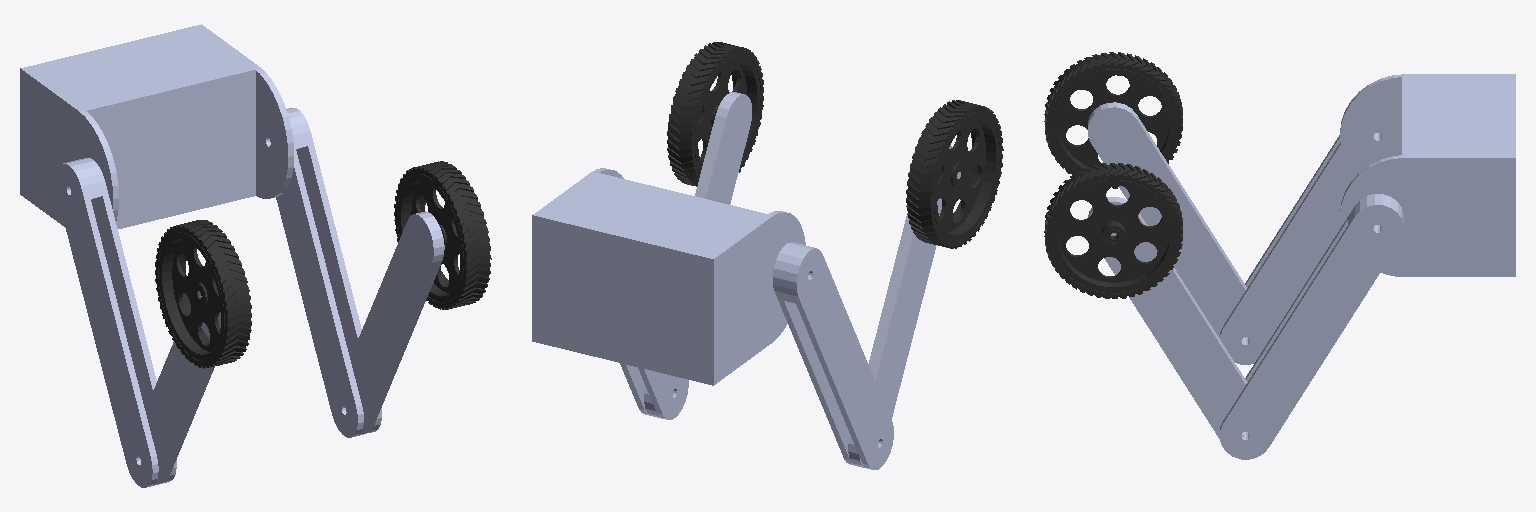
URDF robot description (JJ1_2):
<?xml version="1.0" encoding="utf-8"?>
<!-- This URDF was automatically created by SolidWorks to URDF Exporter! Originally created by Stephen Brawner (brawner@gmail.com) 
     Commit Version: 1.6.0-4-g7f85cfe  Build Version: 1.6.7995.38578
     For more information, please see http://wiki.ros.org/sw_urdf_exporter -->
<robot
  name="JJ1_2">
  <link
    name="base_link">
    <inertial>
      <origin
        xyz="-3.46944695195361E-17 0.0541343106662228 -0.0500000000000001"
        rpy="0 0 0" />
      <mass
        value="0.317885063070022" />
      <inertia
        ixx="0.000805530112810557"
        ixy="1.3041432030326E-18"
        ixz="-1.6823593501364E-19"
        iyy="0.00137768813732968"
        iyz="-6.58270704345859E-20"
        izz="0.00134993322209962" />
    </inertial>
    <visual>
      <origin
        xyz="0 0 0"
        rpy="0 0 0" />
      <geometry>
        <mesh
          filename="package://JJ1_2/meshes/base_link.STL" />
      </geometry>
      <material
        name="">
        <color
          rgba="0.792156862745098 0.819607843137255 0.933333333333333 1" />
      </material>
    </visual>
    <collision>
      <origin
        xyz="0 0 0"
        rpy="0 0 0" />
      <geometry>
        <mesh
          filename="package://JJ1_2/meshes/base_link.STL" />
      </geometry>
    </collision>
  </link>
  <link
    name="left_leg">
    <inertial>
      <origin
        xyz="-0.00999999999999997 -0.0449694323881673 -0.077889341683839"
        rpy="0 0 0" />
      <mass
        value="0.101695020621345" />
      <inertia
        ixx="0.000516418820763554"
        ixy="8.82811163187619E-20"
        ixz="1.58978901600665E-19"
        iyy="0.000386210698184656"
        iyz="-0.000212287066998379"
        izz="0.000141082707630677" />
    </inertial>
    <visual>
      <origin
        xyz="0 0 0"
        rpy="0 0 0" />
      <geometry>
        <mesh
          filename="package://JJ1_2/meshes/left_leg.STL" />
      </geometry>
      <material
        name="">
        <color
          rgba="0.792156862745098 0.819607843137255 0.933333333333333 1" />
      </material>
    </visual>
    <collision>
      <origin
        xyz="0 0 0"
        rpy="0 0 0" />
      <geometry>
        <mesh
          filename="package://JJ1_2/meshes/left_leg.STL" />
      </geometry>
    </collision>
  </link>
  <joint
    name="left_hip_joint"
    type="revolute">
    <origin
      xyz="0.095 0 -0.05"
      rpy="0 0 0" />
    <parent
      link="base_link" />
    <child
      link="left_leg" />
    <axis
      xyz="1 0 0" />
    <limit
      lower="-1.57"
      upper="1.57"
      effort="25"
      velocity="5" />
  </joint>
  <link
    name="left_lower_leg">
    <inertial>
      <origin
        xyz="-0.0104518404280339 -0.0504218920181224 0.0873332787891406"
        rpy="0 0 0" />
      <mass
        value="0.0833200536847903" />
      <inertia
        ixx="0.000384202540438722"
        ixy="1.98939997649913E-07"
        ixz="-3.44574183587276E-07"
        iyy="0.000283396943067376"
        iyz="0.000157071553743909"
        izz="0.000102026335395215" />
    </inertial>
    <visual>
      <origin
        xyz="0 0 0"
        rpy="0 0 0" />
      <geometry>
        <mesh
          filename="package://JJ1_2/meshes/left_lower_leg.STL" />
      </geometry>
      <material
        name="">
        <color
          rgba="0.792156862745098 0.819607843137255 0.933333333333333 1" />
      </material>
    </visual>
    <collision>
      <origin
        xyz="0 0 0"
        rpy="0 0 0" />
      <geometry>
        <mesh
          filename="package://JJ1_2/meshes/left_lower_leg.STL" />
      </geometry>
    </collision>
  </link>
  <joint
    name="lwft_lower_joint"
    type="revolute">
    <origin
      xyz="0 -0.1 -0.17321"
      rpy="0 0 0" />
    <parent
      link="left_leg" />
    <child
      link="left_lower_leg" />
    <axis
      xyz="1 0 0" />
    <limit
      lower="-1.57"
      upper="1.57"
      effort="25"
      velocity="5" />
  </joint>
  <link
    name="left_wheel">
    <inertial>
      <origin
        xyz="-0.00986648847589566 3.04027841663279E-06 -2.21045401397127E-06"
        rpy="0 0 0" />
      <mass
        value="0.0694113133479026" />
      <inertia
        ixx="0.000134229436938703"
        ixy="-1.56927808445733E-09"
        ixz="1.1407701402417E-09"
        iyy="6.90007512954513E-05"
        iyz="-8.47025339346594E-10"
        izz="6.90002022598184E-05" />
    </inertial>
    <visual>
      <origin
        xyz="0 0 0"
        rpy="0 0 0" />
      <geometry>
        <mesh
          filename="package://JJ1_2/meshes/left_wheel.STL" />
      </geometry>
      <material
        name="">
        <color
          rgba="0.250980392156863 0.250980392156863 0.250980392156863 1" />
      </material>
    </visual>
    <collision>
      <origin
        xyz="0 0 0"
        rpy="0 0 0" />
      <geometry>
        <mesh
          filename="package://JJ1_2/meshes/left_wheel.STL" />
      </geometry>
    </collision>
  </link>
  <joint
    name="left_wheel_joint"
    type="continuous">
    <origin
      xyz="0.014 -0.1 0.17321"
      rpy="0 0 0" />
    <parent
      link="left_lower_leg" />
    <child
      link="left_wheel" />
    <axis
      xyz="1 0 0" />
    <limit
      lower="-1.57"
      upper="1.57"
      effort="8"
      velocity="25" />
  </joint>
  <link
    name="right_leg">
    <inertial>
      <origin
        xyz="0.01 -0.0449694323881673 -0.0778893416838389"
        rpy="0 0 0" />
      <mass
        value="0.101695020621345" />
      <inertia
        ixx="0.000516418820763554"
        ixy="9.58709233175815E-21"
        ixz="9.08309461311207E-21"
        iyy="0.000386210698184656"
        iyz="-0.000212287066998379"
        izz="0.000141082707630677" />
    </inertial>
    <visual>
      <origin
        xyz="0 0 0"
        rpy="0 0 0" />
      <geometry>
        <mesh
          filename="package://JJ1_2/meshes/right_leg.STL" />
      </geometry>
      <material
        name="">
        <color
          rgba="0.792156862745098 0.819607843137255 0.933333333333333 1" />
      </material>
    </visual>
    <collision>
      <origin
        xyz="0 0 0"
        rpy="0 0 0" />
      <geometry>
        <mesh
          filename="package://JJ1_2/meshes/right_leg.STL" />
      </geometry>
    </collision>
  </link>
  <joint
    name="right_hip_joint"
    type="revolute">
    <origin
      xyz="-0.095 0 -0.05"
      rpy="0 0 0" />
    <parent
      link="base_link" />
    <child
      link="right_leg" />
    <axis
      xyz="1 0 0" />
    <limit
      lower="-1.57"
      upper="1.57"
      effort="25"
      velocity="5" />
  </joint>
  <link
    name="right_lower_leg">
    <inertial>
      <origin
        xyz="0.0104518404280338 -0.0504218920181224 0.0873332787891406"
        rpy="0 0 0" />
      <mass
        value="0.0833200536847904" />
      <inertia
        ixx="0.000384202540438722"
        ixy="-1.98939997650006E-07"
        ixz="3.44574183587448E-07"
        iyy="0.000283396943067377"
        iyz="0.000157071553743909"
        izz="0.000102026335395215" />
    </inertial>
    <visual>
      <origin
        xyz="0 0 0"
        rpy="0 0 0" />
      <geometry>
        <mesh
          filename="package://JJ1_2/meshes/right_lower_leg.STL" />
      </geometry>
      <material
        name="">
        <color
          rgba="0.792156862745098 0.819607843137255 0.933333333333333 1" />
      </material>
    </visual>
    <collision>
      <origin
        xyz="0 0 0"
        rpy="0 0 0" />
      <geometry>
        <mesh
          filename="package://JJ1_2/meshes/right_lower_leg.STL" />
      </geometry>
    </collision>
  </link>
  <joint
    name="right_lower_joint"
    type="revolute">
    <origin
      xyz="0 -0.1 -0.17321"
      rpy="0 0 0" />
    <parent
      link="right_leg" />
    <child
      link="right_lower_leg" />
    <axis
      xyz="-1 0 0" />
    <limit
      lower="-1.57"
      upper="1.57"
      effort="25"
      velocity="5" />
  </joint>
  <link
    name="right_wheel">
    <inertial>
      <origin
        xyz="0.00363351152410418 3.04027841654952E-06 -2.21045401420719E-06"
        rpy="0 0 0" />
      <mass
        value="0.0694113133479006" />
      <inertia
        ixx="0.000134229436938703"
        ixy="-1.56927808436388E-09"
        ixz="1.14077014027389E-09"
        iyy="6.90007512954512E-05"
        iyz="-8.47025339568194E-10"
        izz="6.90002022598183E-05" />
    </inertial>
    <visual>
      <origin
        xyz="0 0 0"
        rpy="0 0 0" />
      <geometry>
        <mesh
          filename="package://JJ1_2/meshes/right_wheel.STL" />
      </geometry>
      <material
        name="">
        <color
          rgba="0.250980392156863 0.250980392156863 0.250980392156863 1" />
      </material>
    </visual>
    <collision>
      <origin
        xyz="0 0 0"
        rpy="0 0 0" />
      <geometry>
        <mesh
          filename="package://JJ1_2/meshes/right_wheel.STL" />
      </geometry>
    </collision>
  </link>
  <joint
    name="right_wheel_joint"
    type="continuous">
    <origin
      xyz="-0.0075 -0.1 0.17321"
      rpy="0 0 0" />
    <parent
      link="right_lower_leg" />
    <child
      link="right_wheel" />
    <axis
      xyz="1 0 0" />
    <limit
      effort="8"
      velocity="25" />
  </joint>
</robot>

--- Render facts (derived) ---
3 views of the same robot in one strip: view 1: azimuth 30°, elevation 25°; view 2: azimuth 150°, elevation 25°; view 3: azimuth 270°, elevation 25° (orthographic).
Robot: JJ1_2 — 7 links, 6 joints (4 revolute, 2 continuous); root link base_link; default pose: every joint at zero.
Links seen in each view (by area): view 1: base_link, right_leg, left_leg, right_wheel, left_lower_leg, left_wheel, right_lower_leg; view 2: base_link, right_leg, right_wheel, left_wheel, right_lower_leg, left_lower_leg, left_leg; view 3: base_link, left_leg, left_wheel, right_leg, right_lower_leg, left_lower_leg, right_wheel.
Link boxes in pixels (box(x1,y1,x2,y2)): base_link: box(20, 24, 293, 228); right_leg: box(55, 158, 176, 487); left_leg: box(276, 108, 381, 437); right_wheel: box(155, 220, 251, 368); left_lower_leg: box(350, 211, 444, 435); left_wheel: box(394, 161, 491, 309); right_lower_leg: box(145, 291, 220, 485); base_link: box(532, 168, 805, 385); right_leg: box(773, 242, 893, 469); right_wheel: box(906, 100, 1003, 248); left_wheel: box(667, 42, 763, 186); right_lower_leg: box(848, 145, 960, 467); left_lower_leg: box(644, 92, 751, 418); left_leg: box(620, 363, 688, 419); base_link: box(1340, 74, 1515, 276); left_leg: box(1220, 194, 1403, 459); left_wheel: box(1044, 163, 1182, 298); right_leg: box(1220, 133, 1381, 364); right_lower_leg: box(1088, 102, 1249, 342); left_lower_leg: box(1088, 197, 1249, 438); right_wheel: box(1044, 52, 1182, 188).
Size in the robot's own frame: 0.218 by 0.3567 by 0.2456 metres.
7 mesh visuals loaded from 7 distinct referenced files (7 binary STL).
